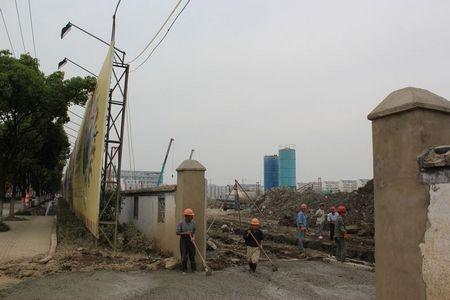Helmet: (183, 207, 195, 222), (250, 218, 260, 229)
